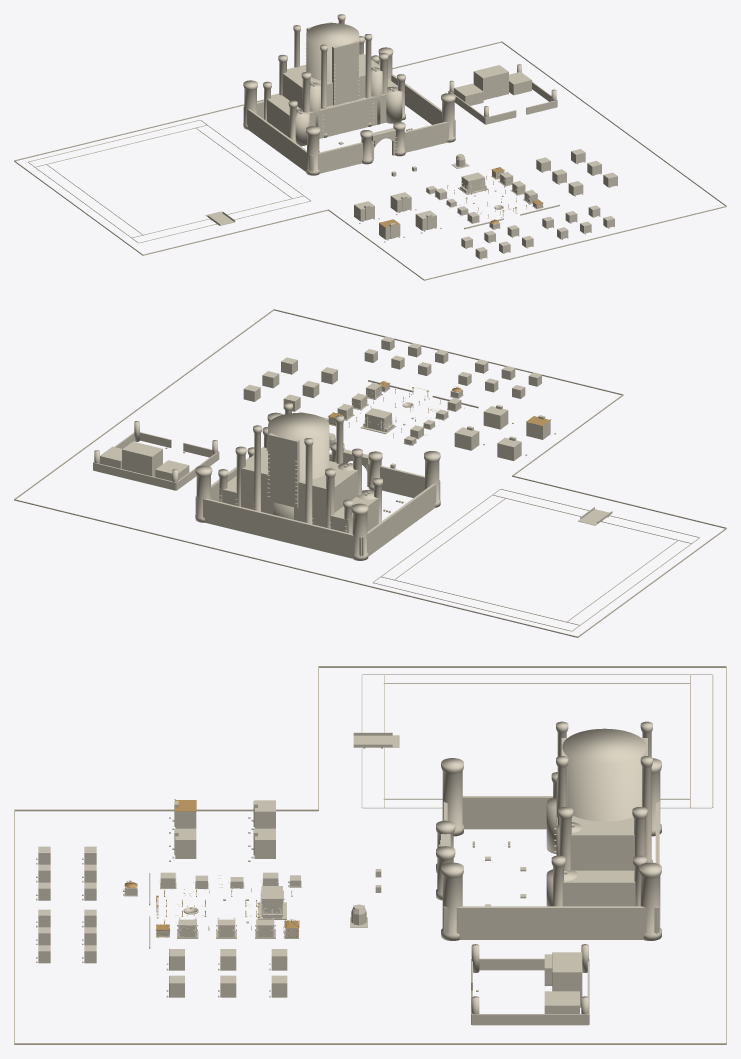
Rendered from Neris-24.glb.
3 renders of one model, top to bottom at view 1: azimuth 30°, elevation 25°; view 2: azimuth 150°, elevation 25°; view 3: azimuth 270°, elevation 25°, orthographic. The views are drawn at different scales.
Visible parts, largest first — view 1: Ivory Limestone, Ivory Limestone.001; view 2: Ivory Limestone, Ivory Limestone.001; view 3: Ivory Limestone, Ivory Limestone.001, Aged Gold.
Part boxes in pixels (left/top/right/bottom): Ivory Limestone: left=14, top=14, right=726, bottom=280; Ivory Limestone.001: left=451, top=153, right=537, bottom=204; Ivory Limestone: left=14, top=309, right=726, bottom=637; Ivory Limestone.001: left=329, top=382, right=396, bottom=449; Ivory Limestone: left=14, top=666, right=726, bottom=1044; Ivory Limestone.001: left=177, top=886, right=367, bottom=938; Aged Gold: left=124, top=799, right=299, bottom=937.
Bounding box in the file's own units: 506 × 89.79 × 404.
